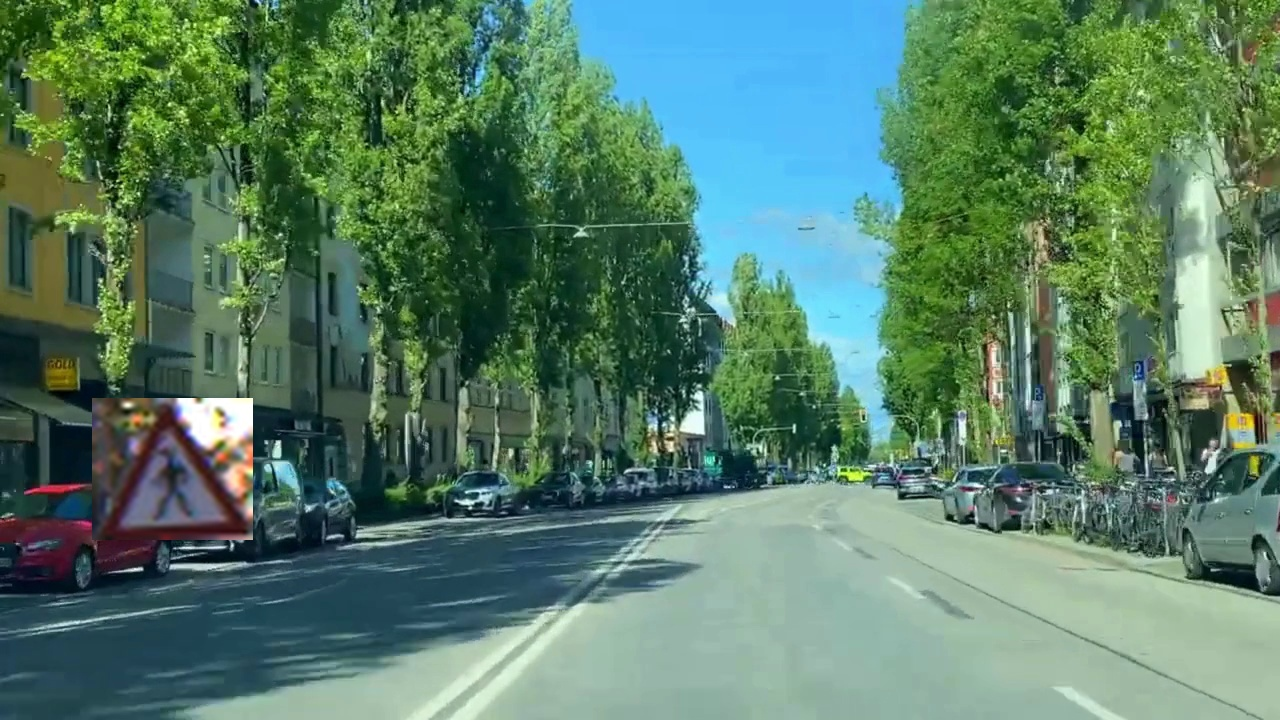Pedestrians: (92, 398, 253, 540)
